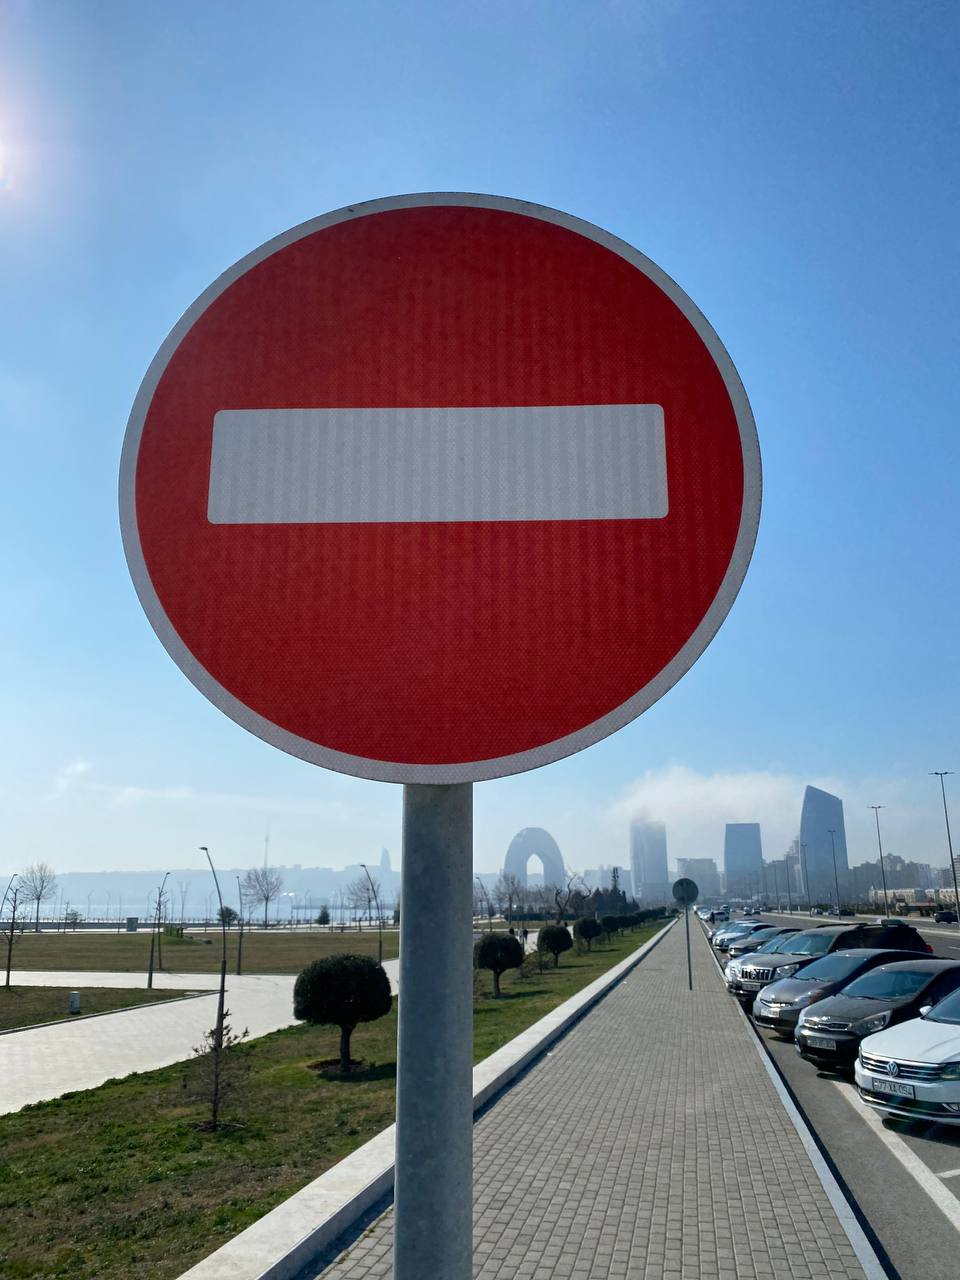No Entry: (116, 190, 764, 787)
